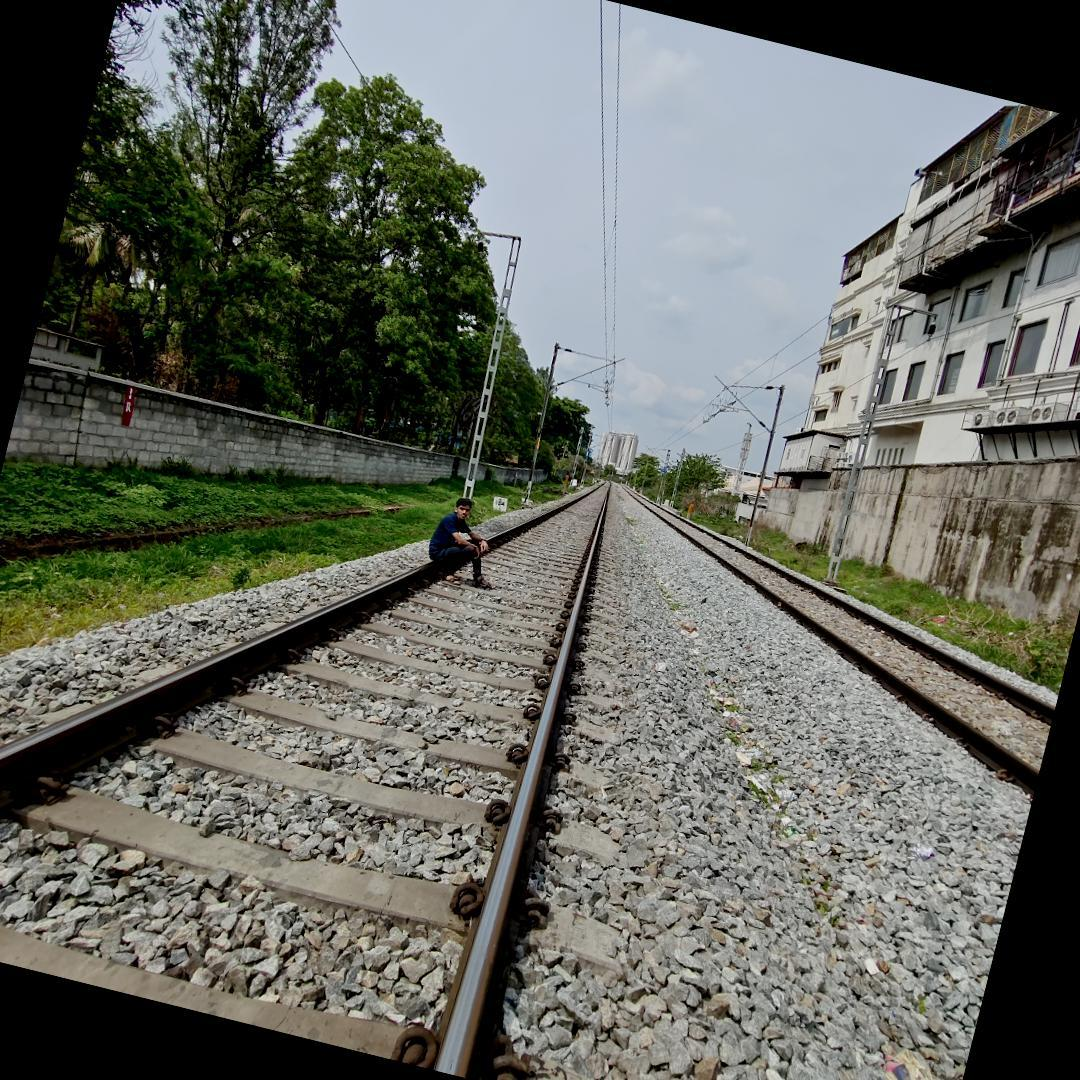sitting: (417, 493, 506, 599)
track: (0, 474, 608, 1080)
